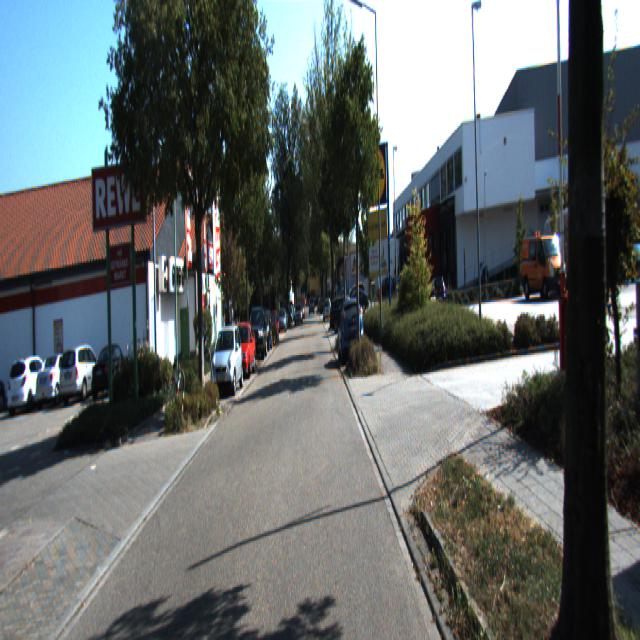Car: (521, 224, 570, 302), (58, 342, 108, 407), (6, 355, 58, 416), (36, 353, 83, 412), (210, 323, 243, 397), (337, 297, 364, 363), (228, 321, 256, 379), (247, 308, 268, 364)
